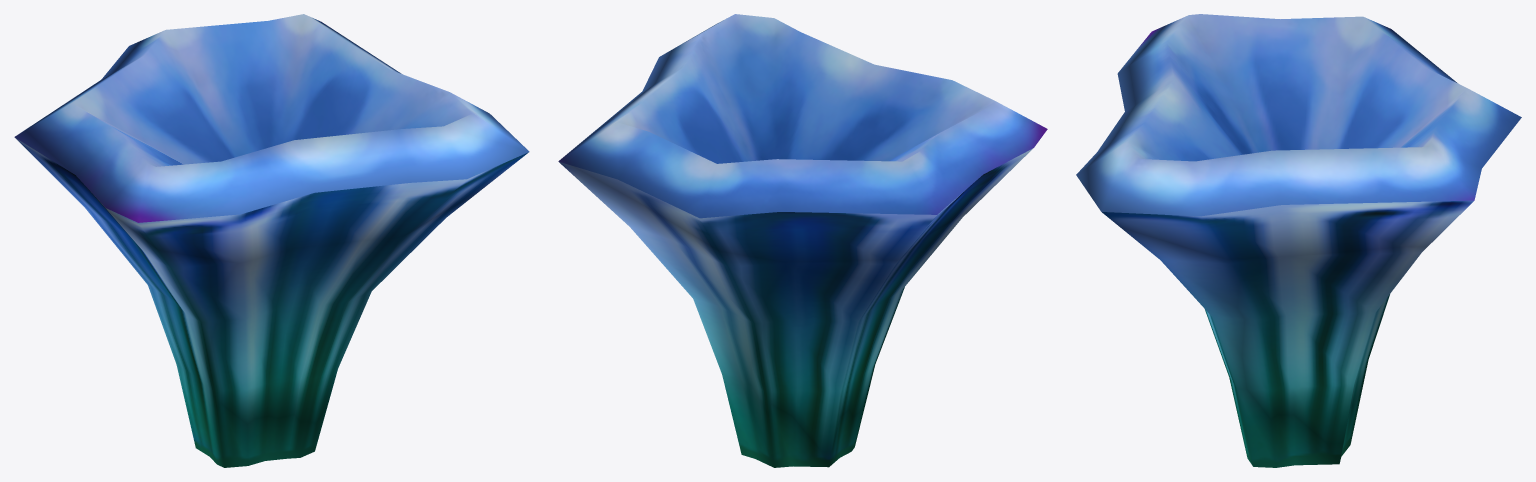
File: Mushroom11.fbx
The picture shows the model from 3 angles, left to right: view 1: azimuth 30°, elevation 25°; view 2: azimuth 150°, elevation 25°; view 3: azimuth 270°, elevation 25°; orthographic projection. The views are drawn at different scales.
Parts seen in each view (by area): view 1: Mushroom11; view 2: Mushroom11; view 3: Mushroom11.
Boxes of the visible parts, x1,y1,x2,y2 form: Mushroom11: (14,14,529,467); Mushroom11: (558,14,1047,467); Mushroom11: (1076,14,1521,467).
Size of the model in its own units: 1.02 by 0.9016 by 1.02.
